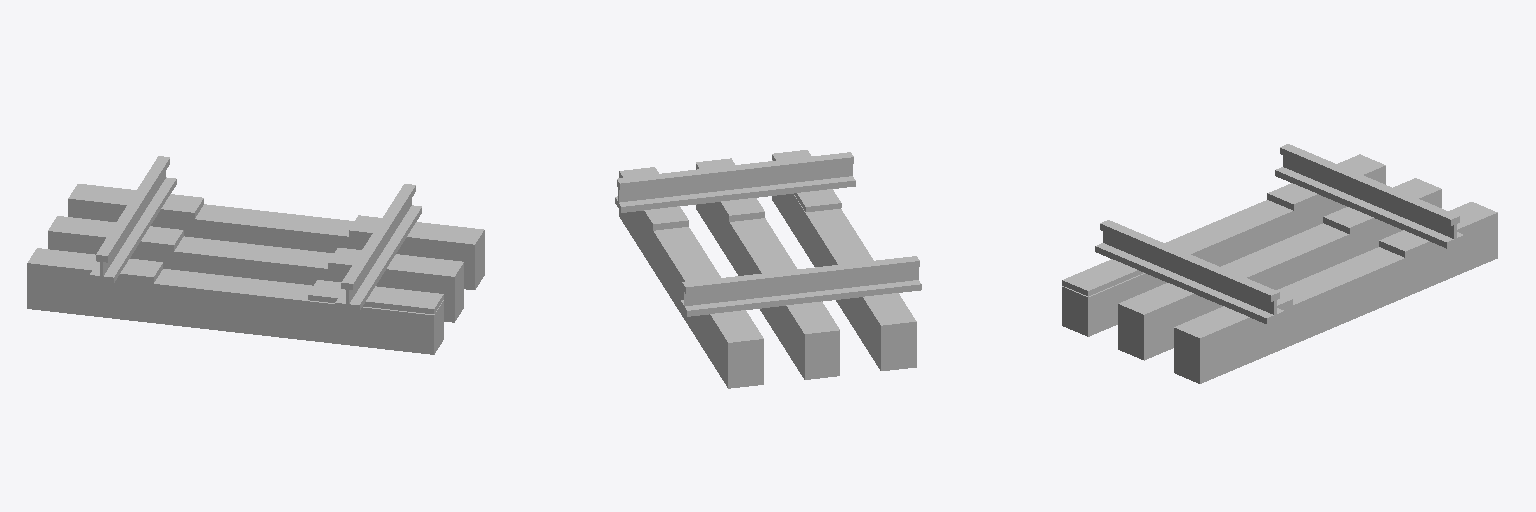
The model's file is diag_2.obj.
3 views of the same model, side by side, from view 1: azimuth 30°, elevation 25°; view 2: azimuth 150°, elevation 25°; view 3: azimuth 270°, elevation 25° (orthographic).
Visible parts, largest first — view 1: cube, tie3, tie1, tie2; view 2: cube, tie2, tie3, tie1; view 3: cube, tie3, tie1, tie2.
Boxes of the visible parts, x1=… form: cube: x1=27, y1=184, x2=484, y2=354; tie3: x1=96, y1=156, x2=415, y2=289; tie1: x1=90, y1=177, x2=421, y2=310; tie2: x1=100, y1=171, x2=411, y2=303; cube: x1=619, y1=150, x2=916, y2=388; tie2: x1=618, y1=164, x2=918, y2=305; tie3: x1=617, y1=152, x2=919, y2=293; tie1: x1=615, y1=176, x2=921, y2=316; cube: x1=1062, y1=154, x2=1497, y2=383; tie3: x1=1100, y1=144, x2=1459, y2=301; tie1: x1=1095, y1=167, x2=1463, y2=323; tie2: x1=1103, y1=155, x2=1456, y2=314.
Bounding box in the file's own units: 2.59 × 0.4738 × 2.59.